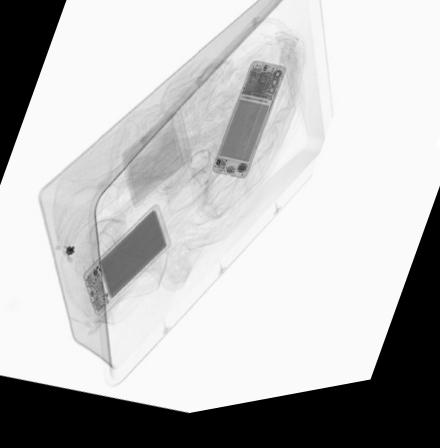Powerbank: (81, 207, 167, 322)
